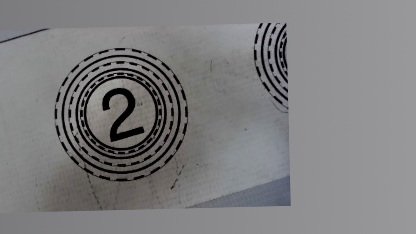2r: (51, 44, 190, 185)
